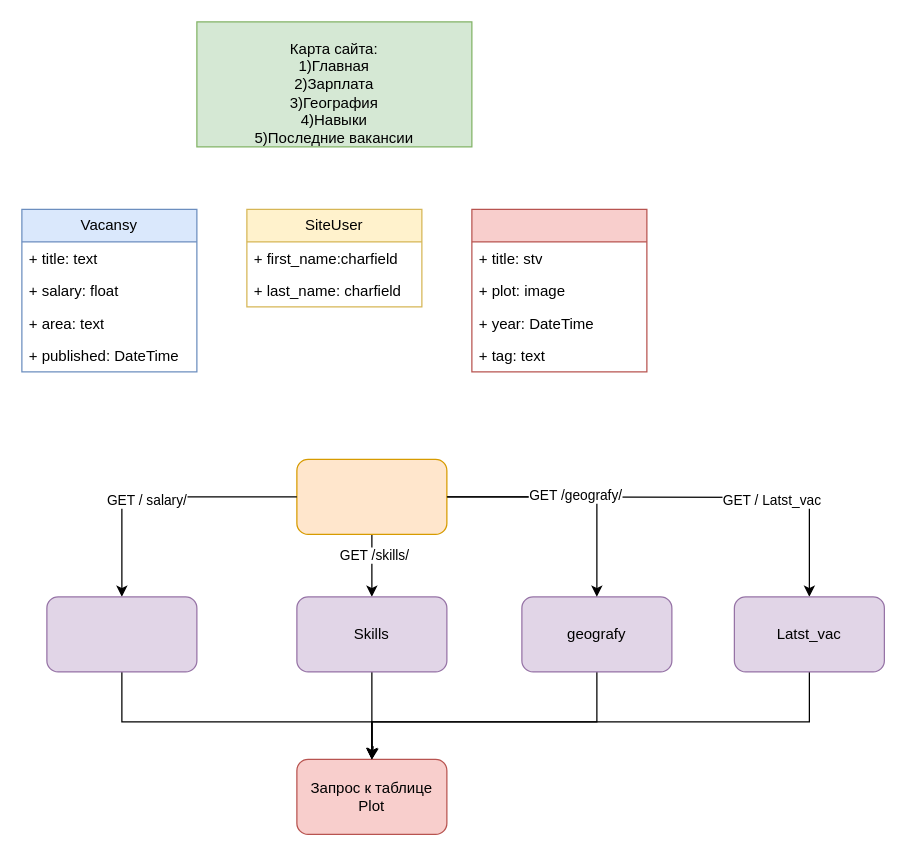
This 906x856 diagram has some shape labels left out. Each missing label, with the box of its shape:
Plots: (471, 208, 647, 372)
root: (296, 458, 447, 534)
salary: (46, 596, 197, 672)
